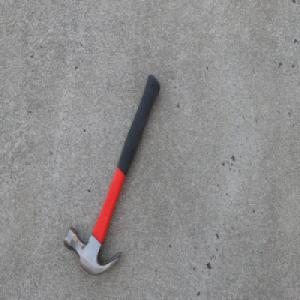Hammer: (63, 73, 161, 276)
